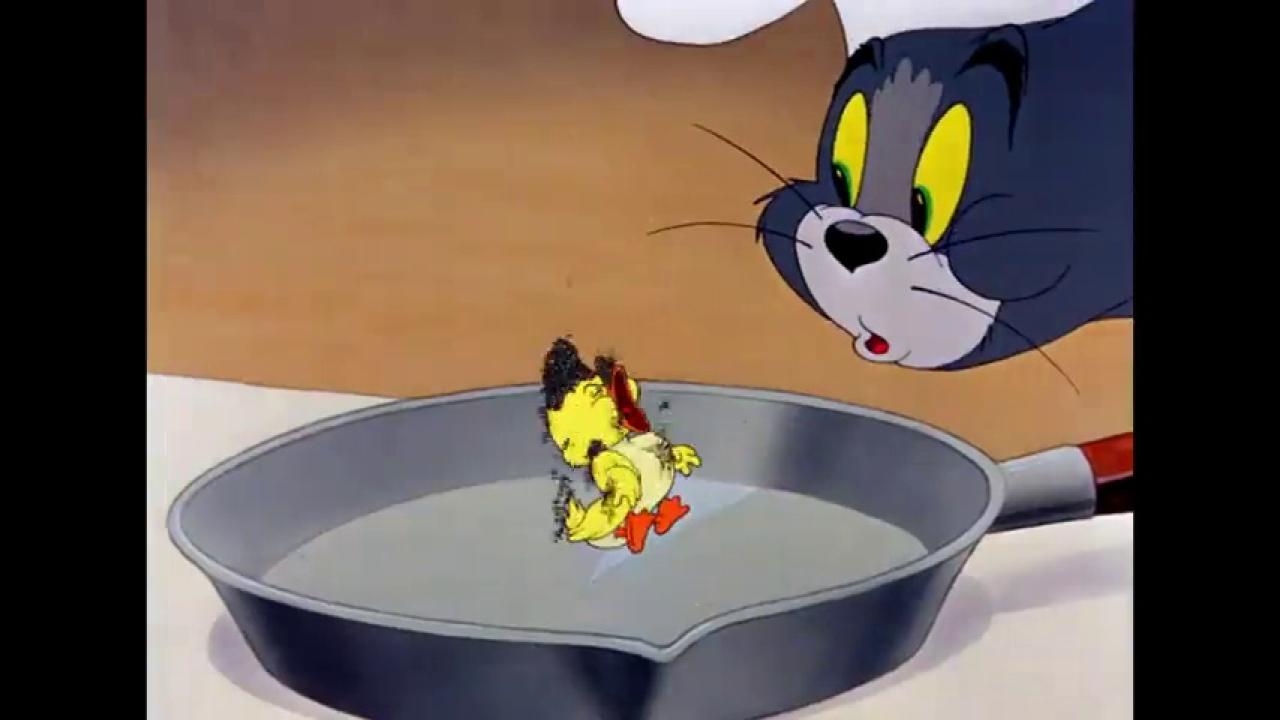Tom: (752, 1, 1134, 375)
